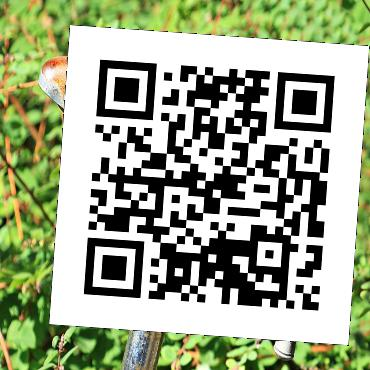qr_code: (49, 25, 369, 345)
